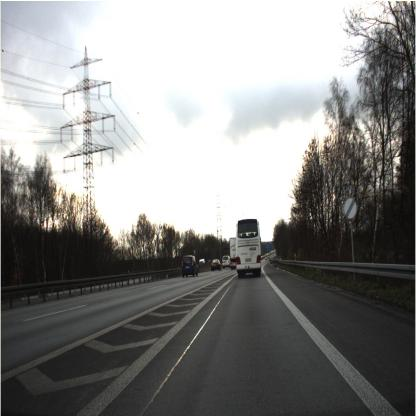restriction ends overtaking trucks: (343, 196, 357, 219)
